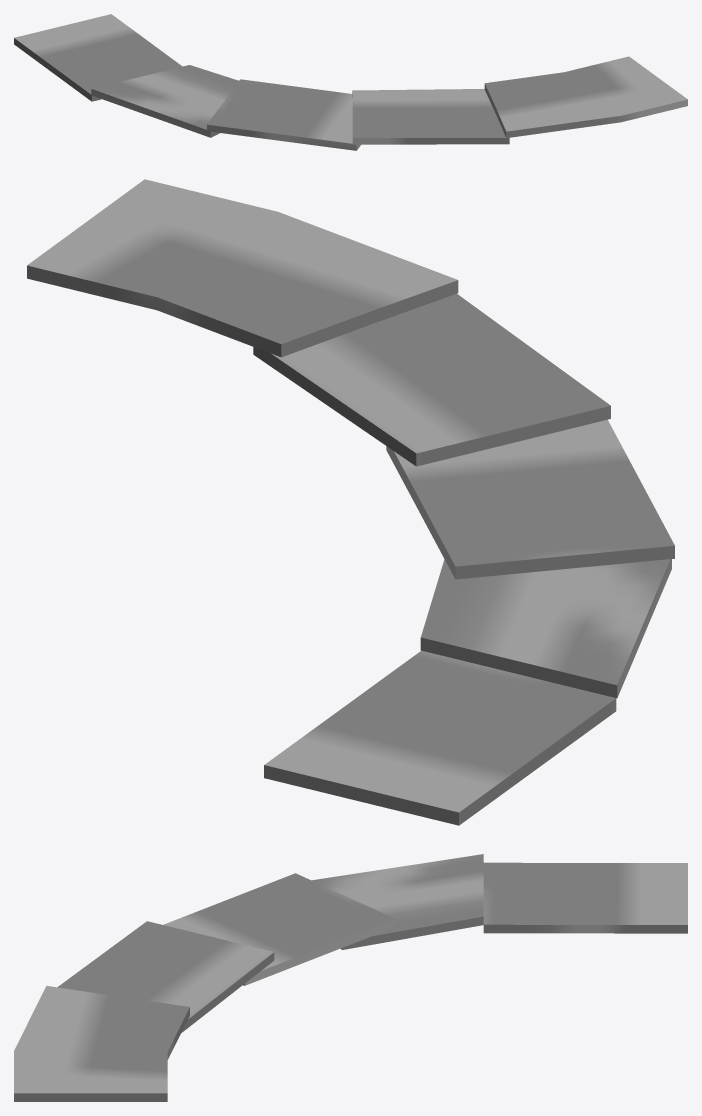
File: floor_mainStair.fbx
The picture shows the model from 3 angles, top to bottom: view 1: azimuth 30°, elevation 25°; view 2: azimuth 150°, elevation 25°; view 3: azimuth 270°, elevation 25°; orthographic projection. The views are drawn at different scales.
Visible parts, largest first — view 1: floor_mainStair; view 2: floor_mainStair; view 3: floor_mainStair.
Part boxes in pixels (<box>): floor_mainStair: <box>14,14,687,150</box>; floor_mainStair: <box>27,179,674,825</box>; floor_mainStair: <box>14,854,687,1101</box>.
Size of the model in its own units: 3994 by 299 by 4293.
